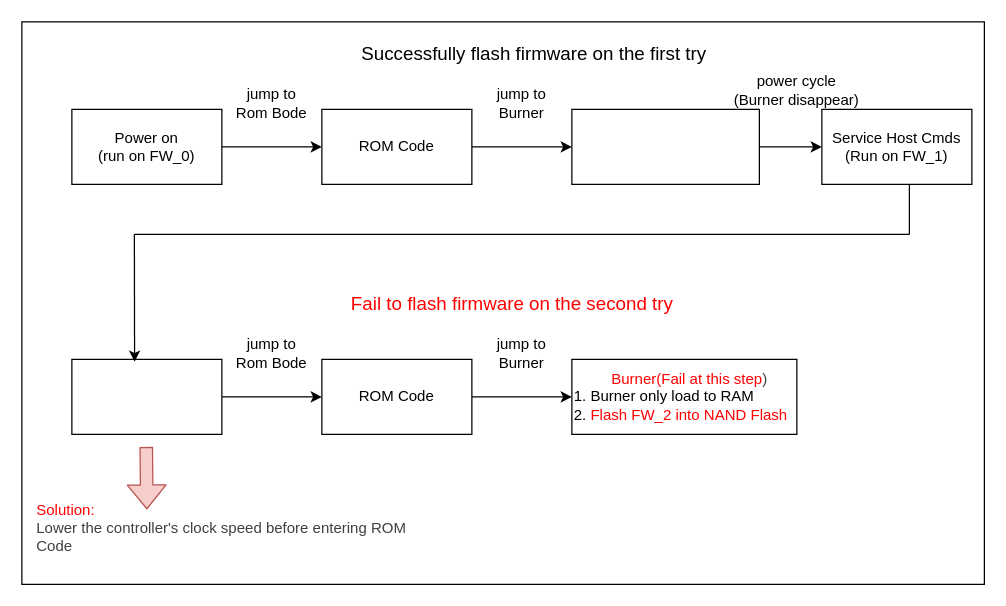
The diagram is 1006 pixels wide and 606 high, and some of its shapes have lost their labels. The shapes that lost their labels are listed below. From the top down, each one's centre as x and y in pixels, then its label:
At point (665, 146): "Burner 1. Burner only load to RAM 2. Flash FW_1 into NAND Flash".
At point (146, 396): "Power on (run on FW_1)".
